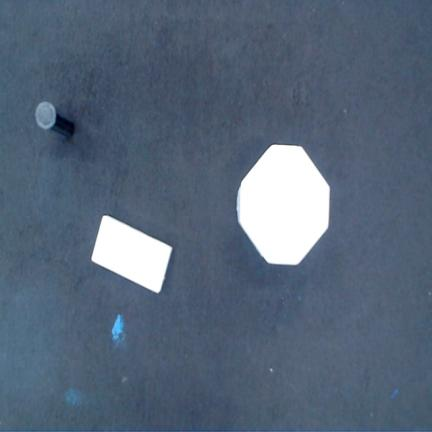Cilindro: (35, 101, 74, 137)
Paralelepipedo: (92, 215, 173, 295)
Prisma_hexagonal: (236, 145, 329, 264)
